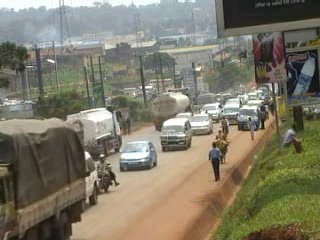Car: (114, 139, 161, 174), (82, 143, 101, 210), (197, 100, 226, 124), (188, 112, 215, 137), (174, 111, 196, 124)
Motorcycle: (97, 151, 123, 197)
